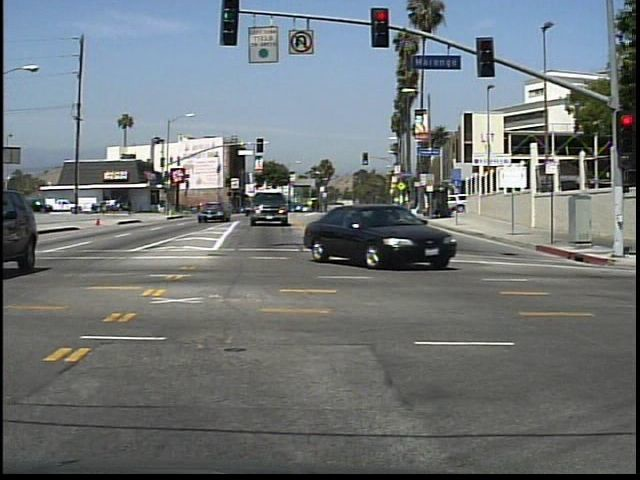person: (126, 195, 138, 219)
